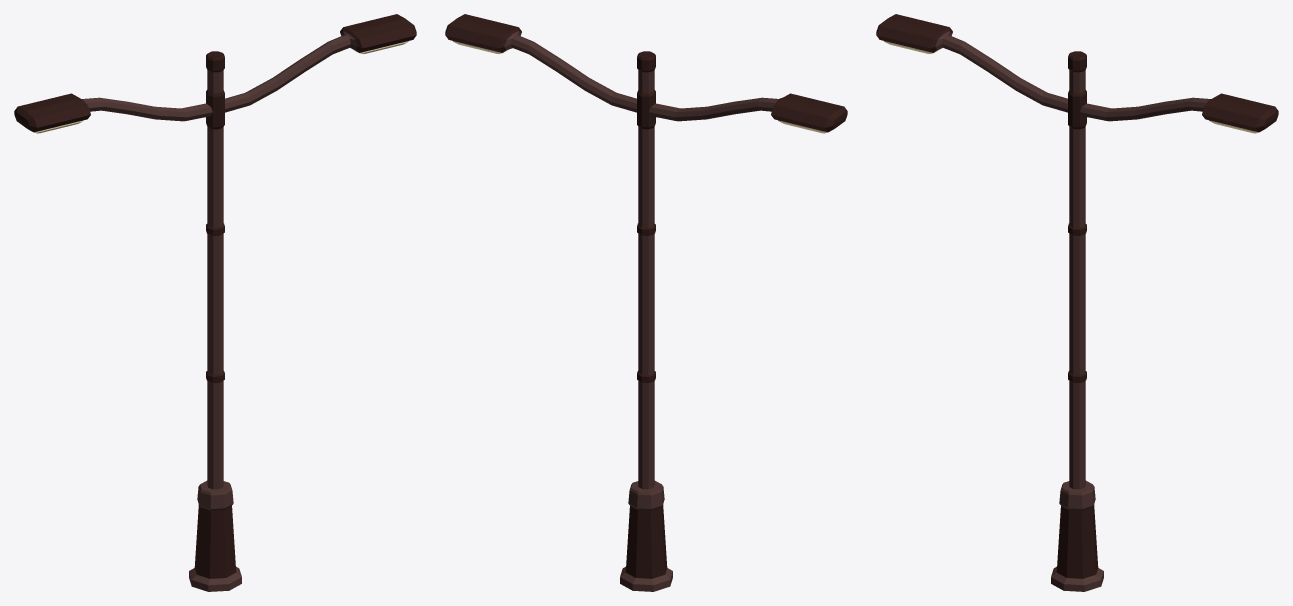
The model's file is Lap_Post_Double.fbx.
The picture shows the model from 3 angles, left to right: view 1: azimuth 30°, elevation 25°; view 2: azimuth 150°, elevation 25°; view 3: azimuth 330°, elevation 25°; orthographic projection.
Parts seen in each view (by area): view 1: Lap_Post_Double; view 2: Lap_Post_Double; view 3: Lap_Post_Double.
Boxes of the visible parts, left/top/right/bottom form: Lap_Post_Double: left=14, top=14, right=416, bottom=591; Lap_Post_Double: left=445, top=14, right=847, bottom=591; Lap_Post_Double: left=876, top=14, right=1278, bottom=591.
Bounding box in the file's own units: 1287 × 1664 × 157.
